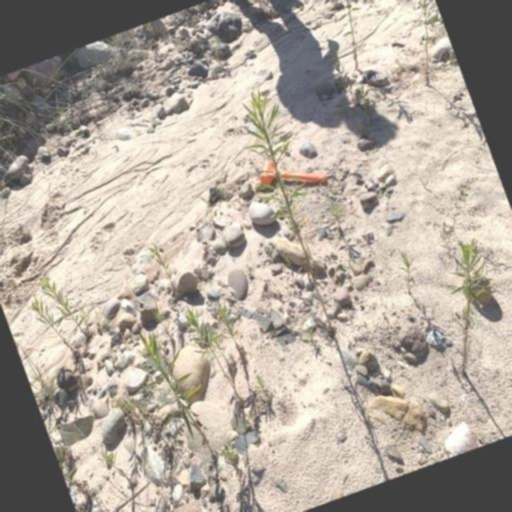mallet: (254, 143, 328, 203)
